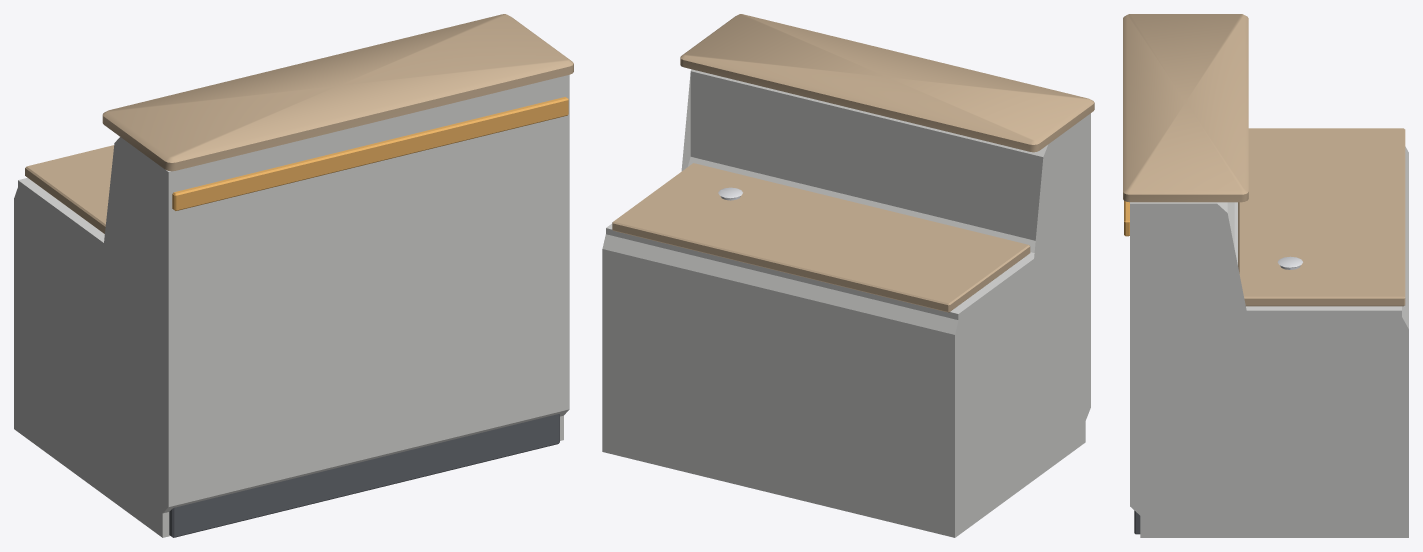
Rendered from office-lobby-and-facilities-reception-desk-module-910ee715.glb.
The picture shows the model from 3 angles, left to right: view 1: azimuth 30°, elevation 25°; view 2: azimuth 150°, elevation 25°; view 3: azimuth 270°, elevation 25°; orthographic projection. The views are drawn at different scales.
Parts seen in each view (by area): view 1: reception-desk-module; view 2: reception-desk-module; view 3: reception-desk-module.
Boxes of the visible parts, box(x1,y1,x2,y2) form: reception-desk-module: box(14, 14, 573, 537); reception-desk-module: box(602, 14, 1094, 537); reception-desk-module: box(1123, 14, 1408, 537).
Bounding box in the file's own units: 1.22 × 1.1 × 0.82.
